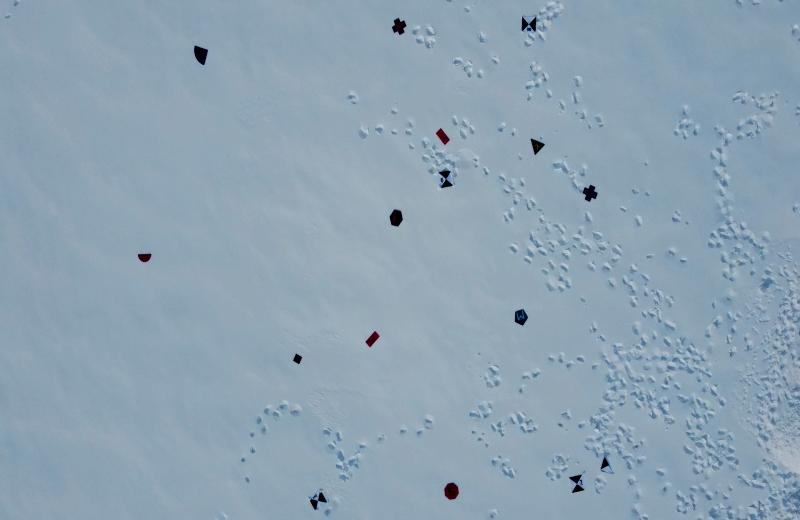Cross: (582, 184, 598, 202), (392, 18, 407, 36)
Hexagon: (389, 208, 404, 227)
Octagon: (444, 481, 460, 500)
Pentagon: (514, 309, 529, 326)
Quarter Circle: (194, 42, 210, 67)
Rectangle: (366, 329, 382, 347), (436, 128, 450, 147)
Semi Circle: (137, 252, 153, 262)
Square: (293, 352, 303, 365)
Triangle: (530, 137, 544, 156)
